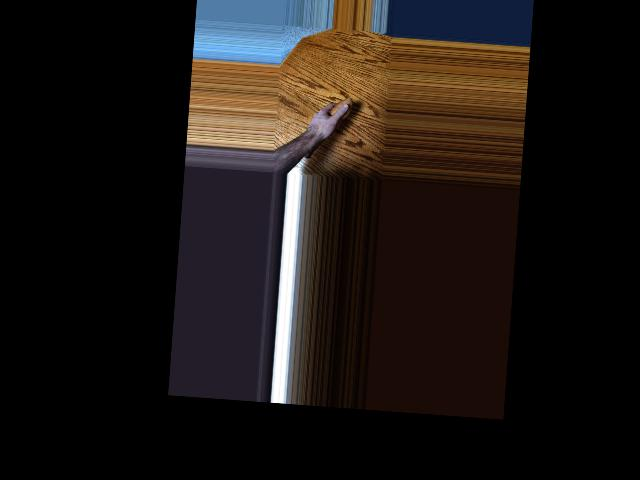sweet_potato: (303, 95, 353, 163)
